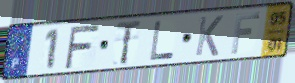1: (43, 28, 60, 70)
F: (63, 23, 102, 71), (229, 11, 262, 56)
K: (193, 14, 225, 58)
L: (148, 19, 175, 62)
T: (114, 18, 143, 68)
